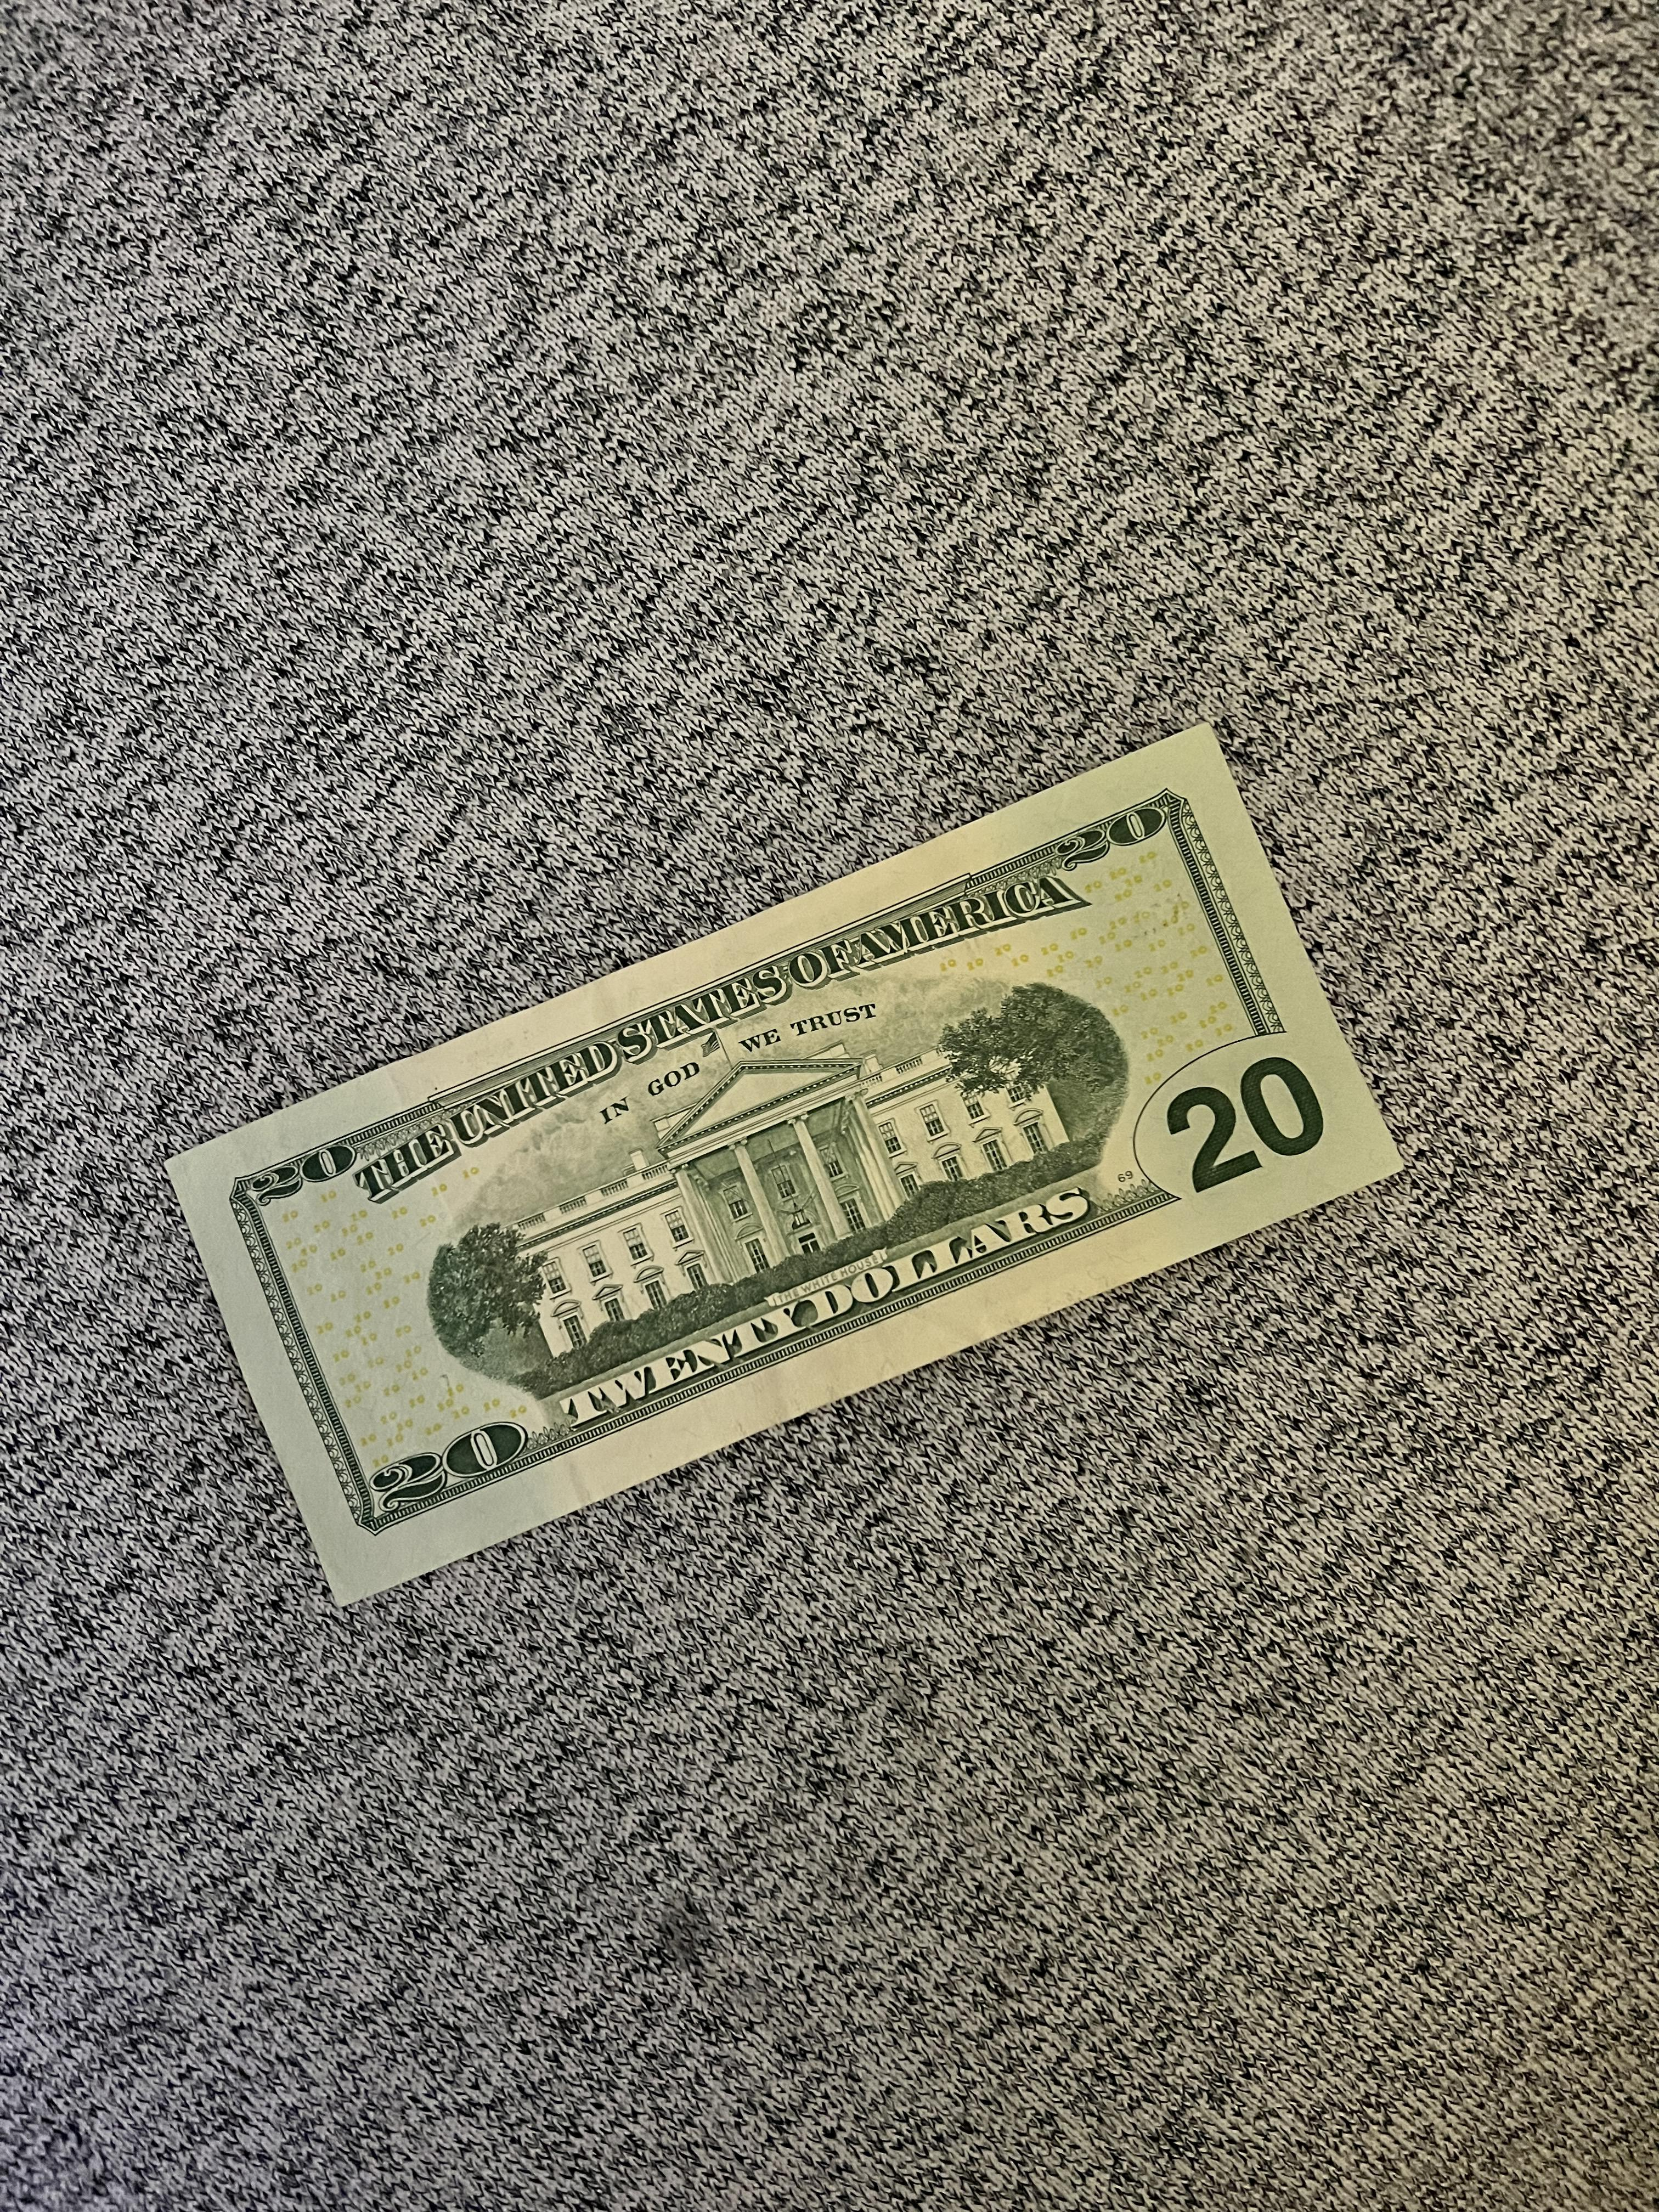TwentyBill: (157, 733, 1405, 1601)
